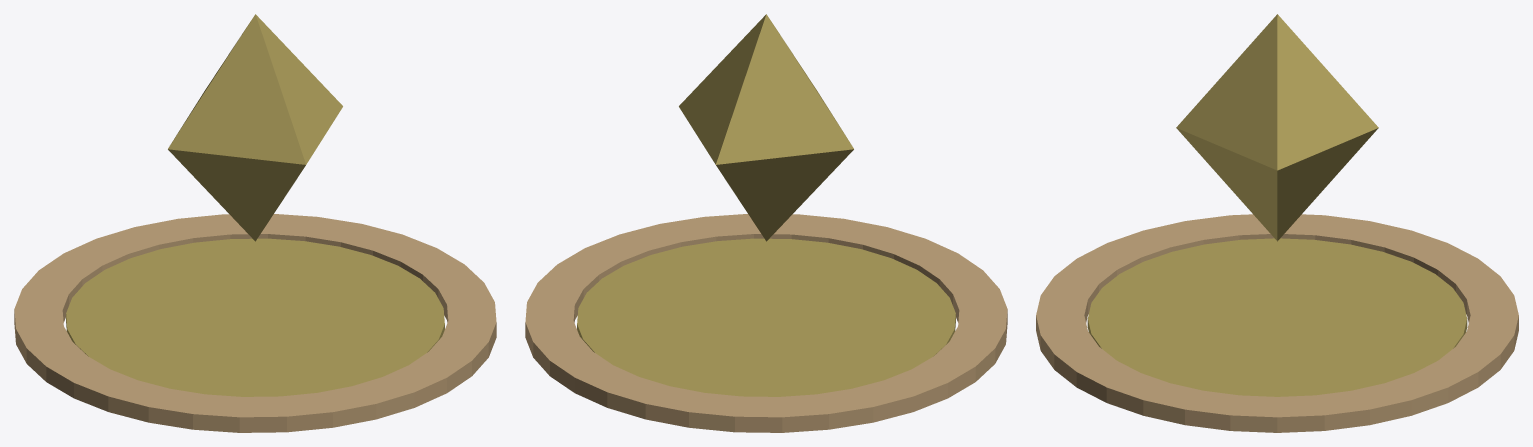
File: soc_boost_small.fbx
The picture shows the model from 3 angles, left to right: view 1: azimuth 30°, elevation 25°; view 2: azimuth 150°, elevation 25°; view 3: azimuth 270°, elevation 25°; orthographic projection.
Visible parts, largest first — view 1: glow_a_1, trim_1; view 2: glow_a_1, trim_1; view 3: glow_a_1, trim_1.
Boxes of the visible parts, x1,y1,x2,y2 form: glow_a_1: [66, 14, 444, 396]; trim_1: [14, 214, 496, 432]; glow_a_1: [577, 14, 955, 396]; trim_1: [525, 214, 1007, 432]; glow_a_1: [1087, 14, 1467, 396]; trim_1: [1036, 214, 1518, 432].
Size of the model in its own units: 0.28 by 0.2028 by 0.28.
